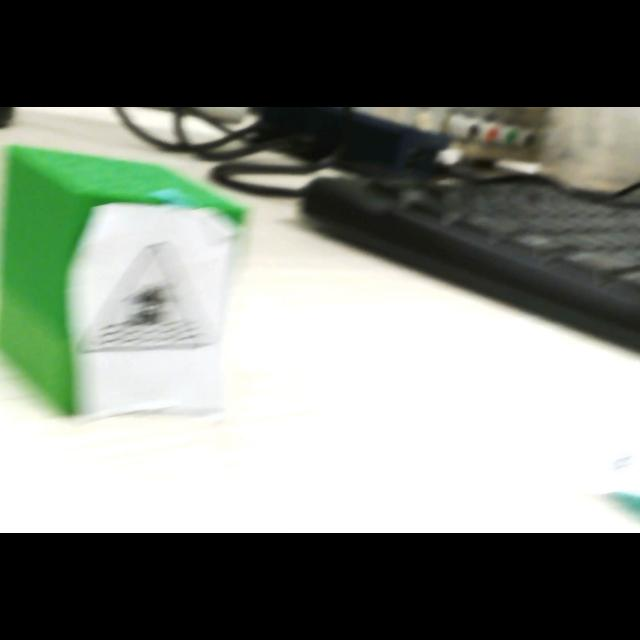Tsunami: (79, 242, 217, 354)
